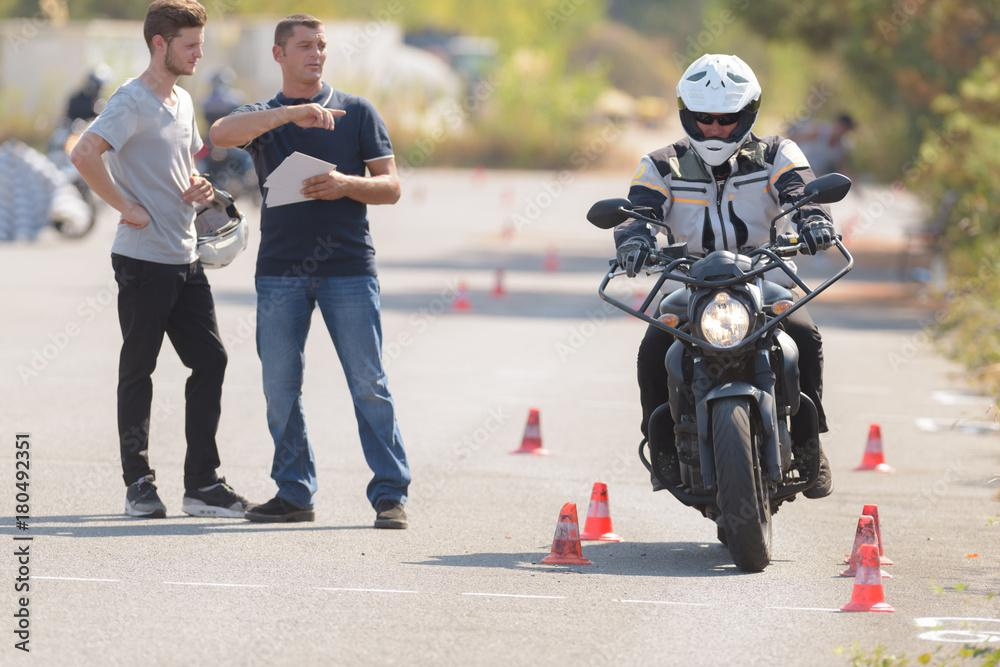helmet: (676, 52, 762, 167)
nohelmet: (143, 0, 207, 77), (272, 12, 330, 88)
